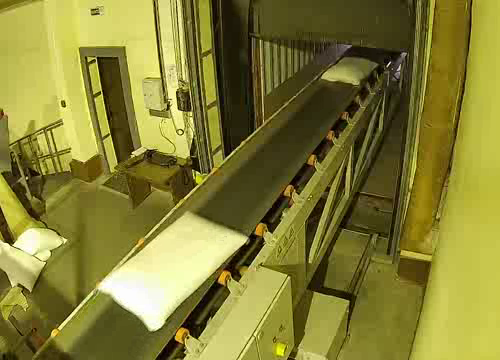bag: (92, 210, 250, 333), (319, 55, 381, 87)
